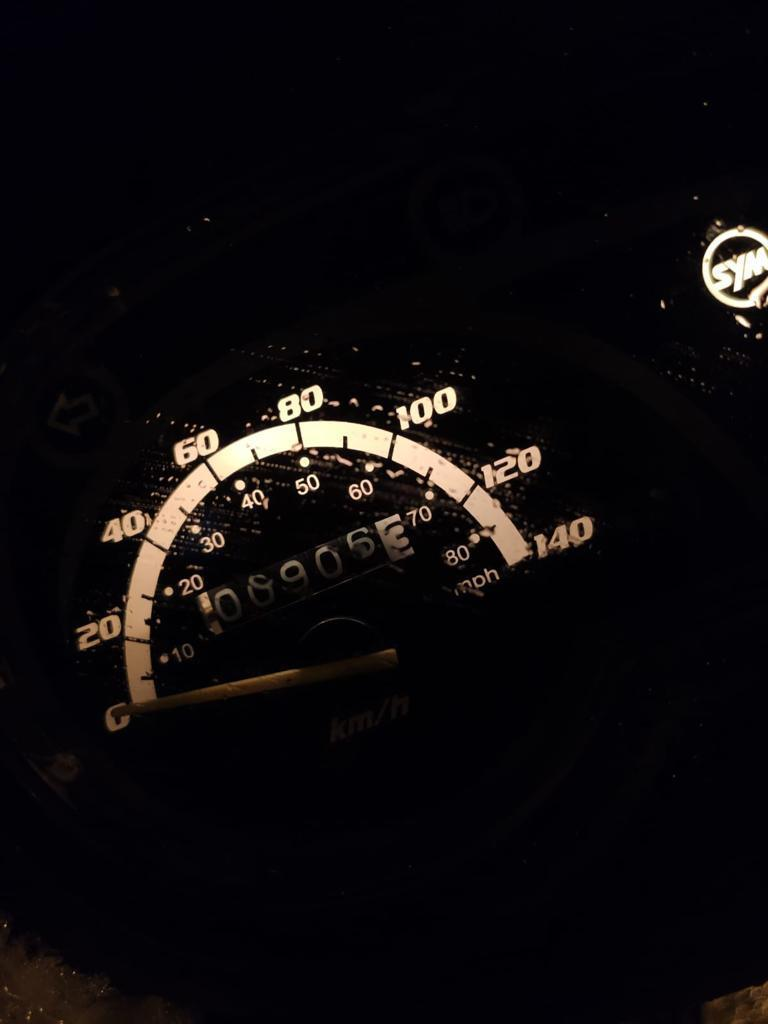0: (313, 545, 343, 579), (213, 587, 242, 621), (246, 574, 275, 607), (211, 530, 225, 548), (190, 573, 204, 590)
3: (383, 519, 412, 552), (198, 535, 214, 553)
6: (345, 526, 375, 560)
7: (405, 508, 418, 527)
9: (278, 558, 309, 595)
odometer: (192, 511, 416, 642)
